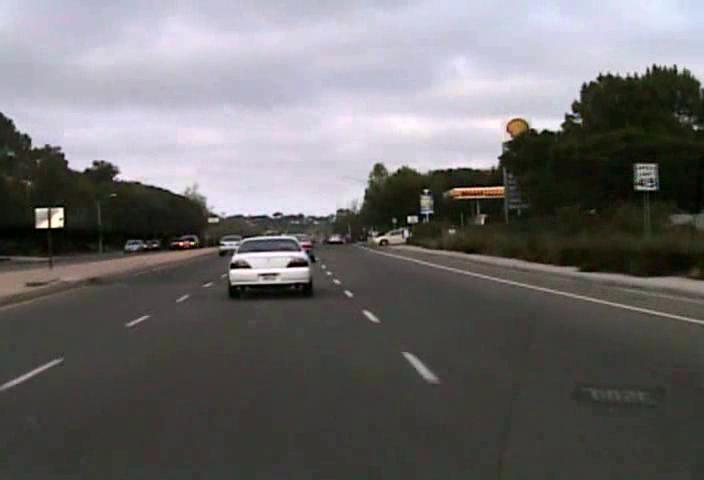speedLimit45: (633, 162, 659, 190)
